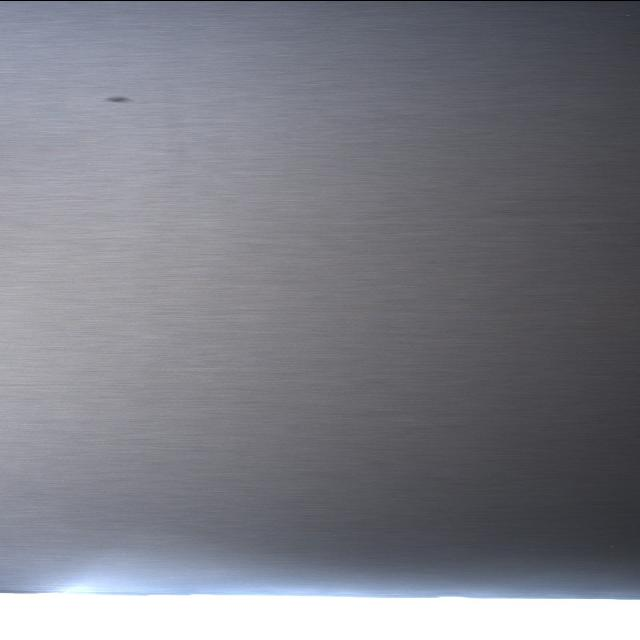crease: (152, 86, 195, 212)
